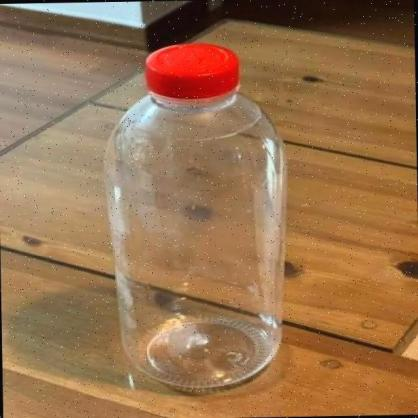bottle: (102, 42, 286, 392)
cap: (142, 43, 243, 103)
